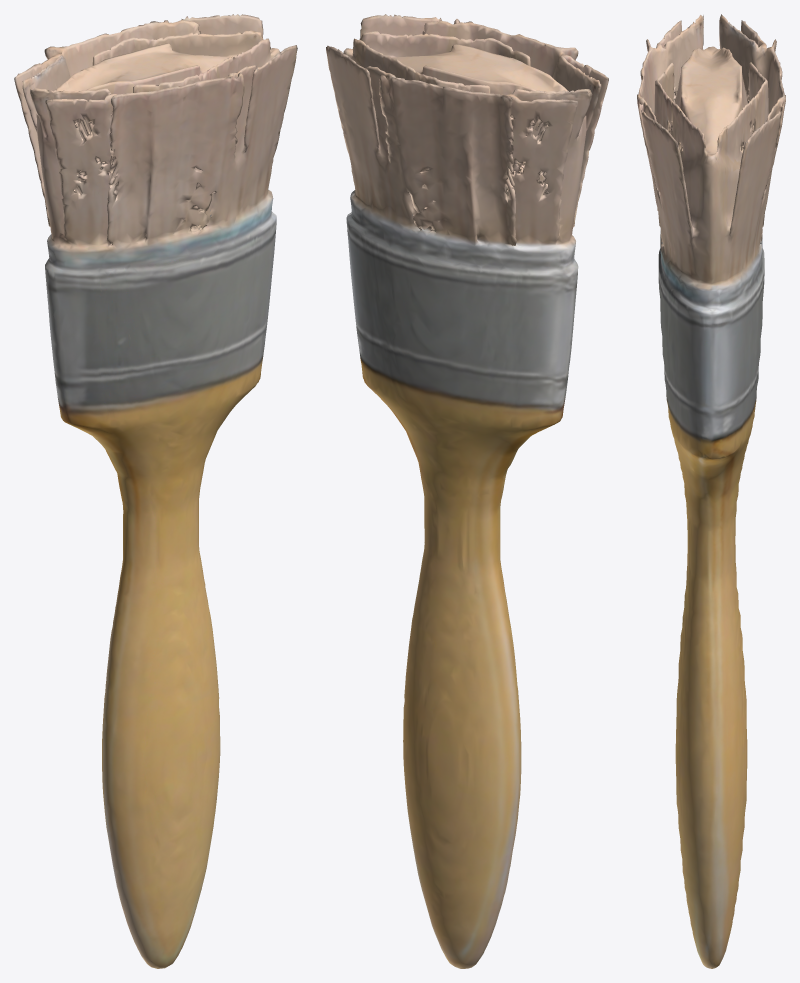
The model's file is Flat_Paintbrush_3_1018233237 1.fbx.
3 renders of one model, left to right at view 1: azimuth 30°, elevation 25°; view 2: azimuth 150°, elevation 25°; view 3: azimuth 270°, elevation 25°, orthographic. The views are drawn at different scales.
Parts seen in each view (by area): view 1: Mesh_0; view 2: Mesh_0; view 3: Mesh_0.
Boxes of the visible parts, box(x1,y1,x2,y2) form: Mesh_0: box(14, 14, 297, 968); Mesh_0: box(326, 14, 608, 968); Mesh_0: box(637, 14, 785, 968).
Bounding box in the file's own units: 58.33 × 201 × 30.43.
Materials: 1 (1 with a texture image).
